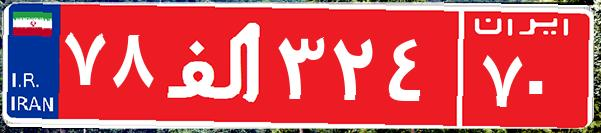0: (525, 38, 570, 115)
2: (330, 28, 385, 110)
3: (273, 28, 330, 110)
4: (385, 28, 445, 110)
7: (57, 26, 110, 107), (475, 38, 525, 113)
8: (110, 28, 158, 105)
الف: (158, 15, 273, 115)
